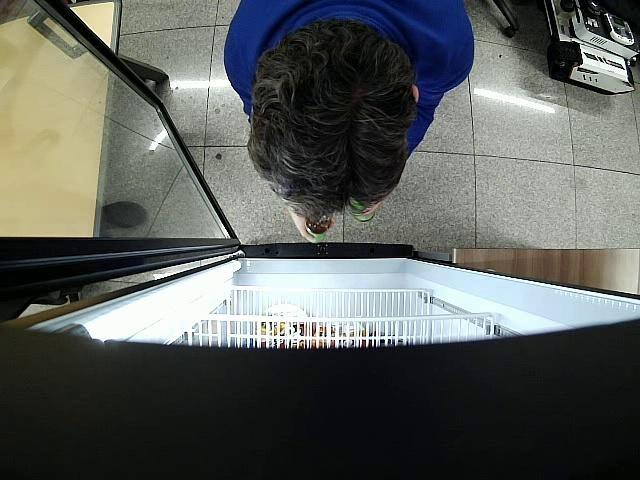19_17cha: (305, 216, 333, 242)
